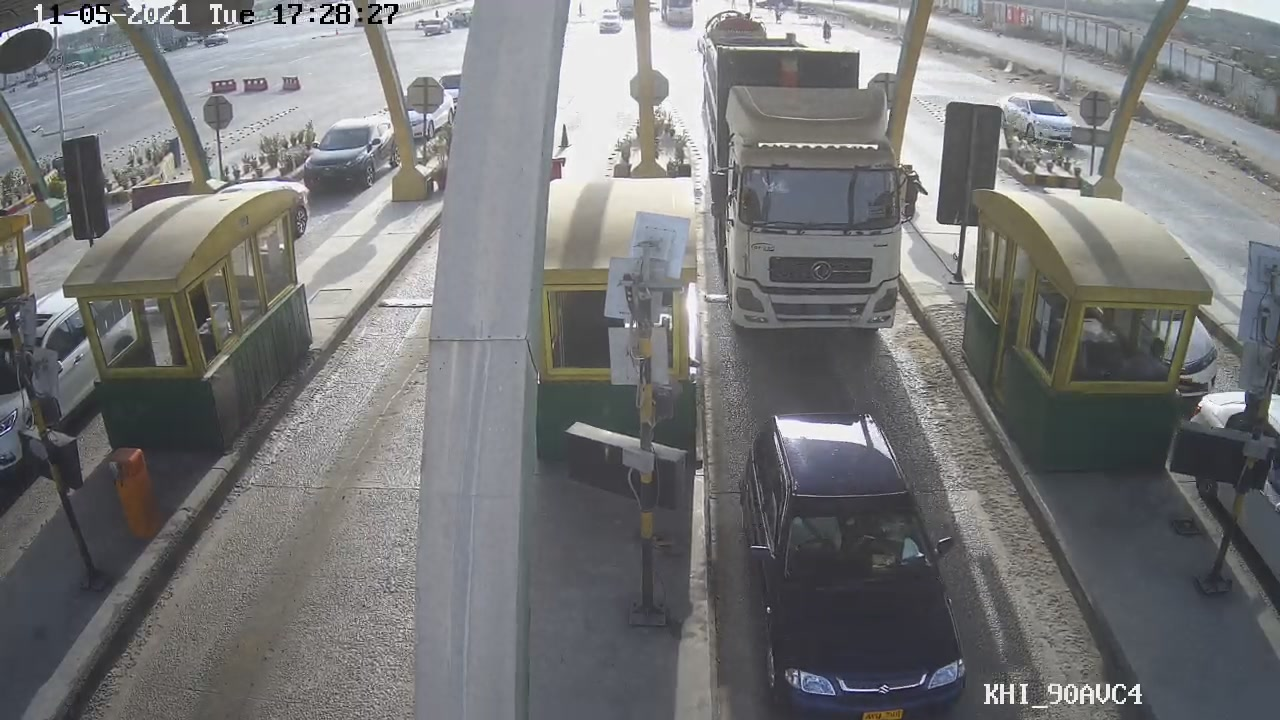F6: (700, 24, 926, 338)
